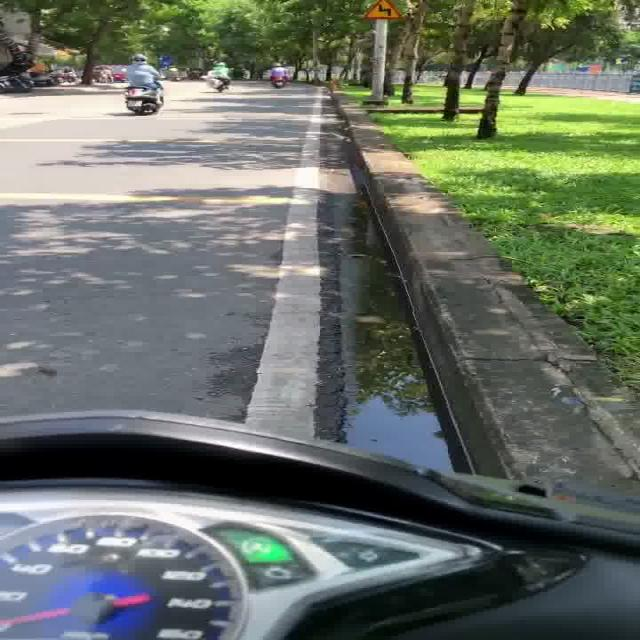Bien bao nhieu cho ngoat nguy hiem lien tiep: (356, 0, 415, 25)
